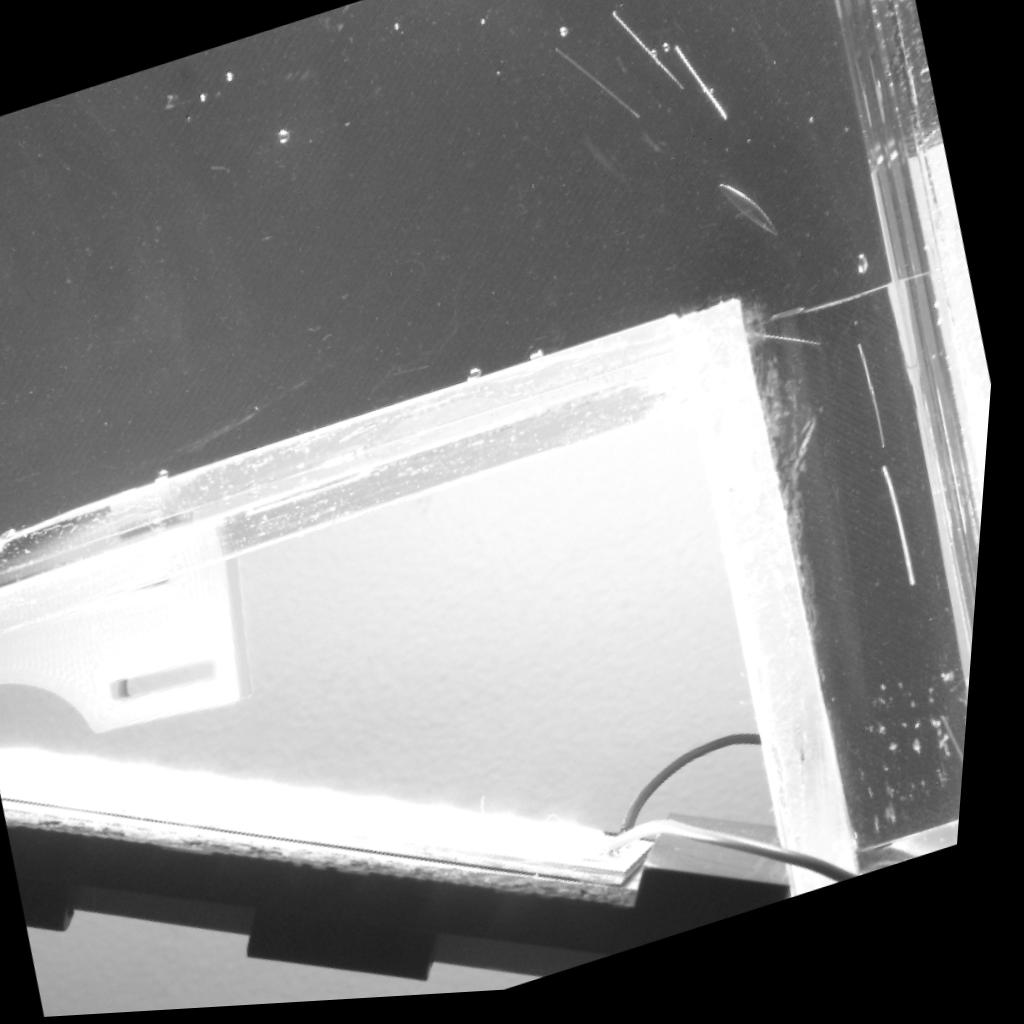Fiber: (550, 54, 647, 133), (606, 18, 692, 103), (886, 476, 929, 598), (674, 53, 736, 129), (861, 355, 895, 461), (751, 340, 832, 363), (947, 726, 977, 785)
